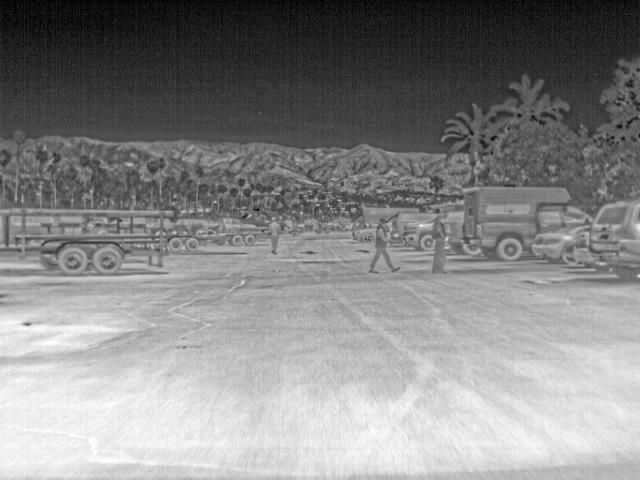car: (585, 199, 639, 281), (528, 224, 588, 264), (442, 216, 481, 258), (393, 213, 441, 242), (406, 222, 436, 251), (572, 228, 592, 267), (217, 216, 261, 230)
person: (366, 220, 401, 276), (430, 213, 445, 274), (267, 216, 281, 253)
